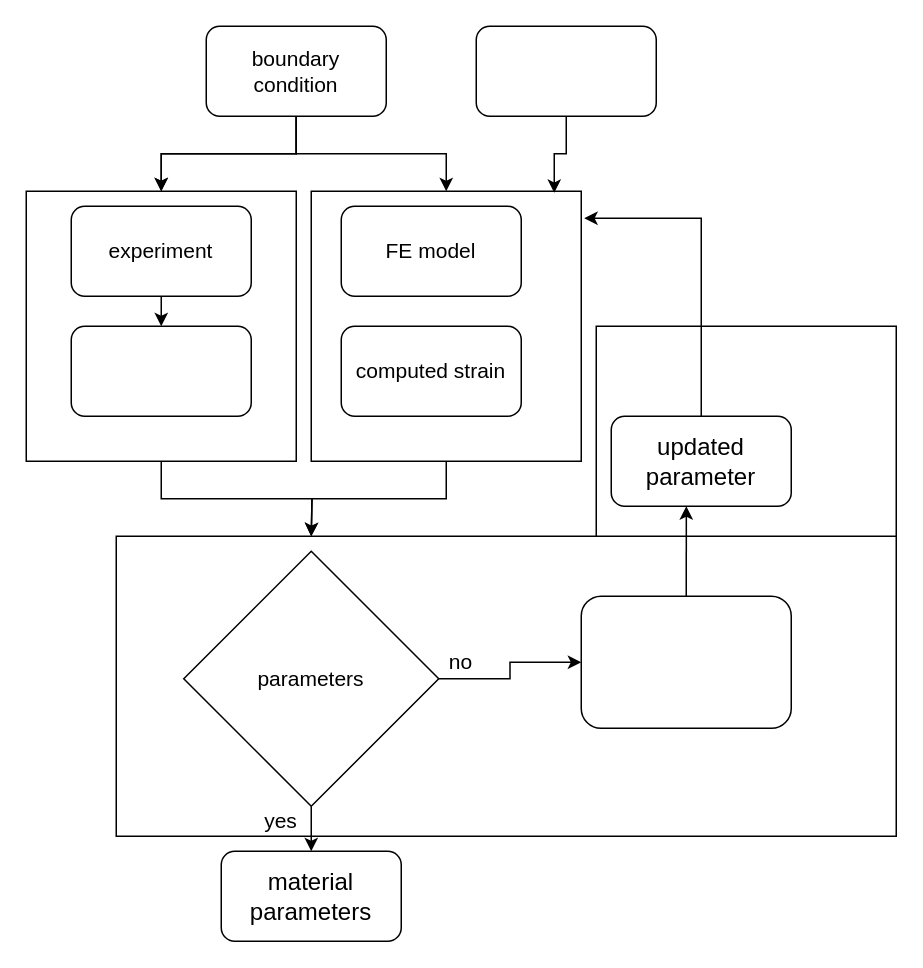
The diagram is 923 pixels wide and 968 high, and some of its shapes have lost their labels. Here are the shapes that lost their labels. From the top down, the centre of each, then its label:
At point 565,70: "initial parameters".
At point 160,370: "measured strain".
At point 685,661: "least square method sensitivity matrix calculation".
